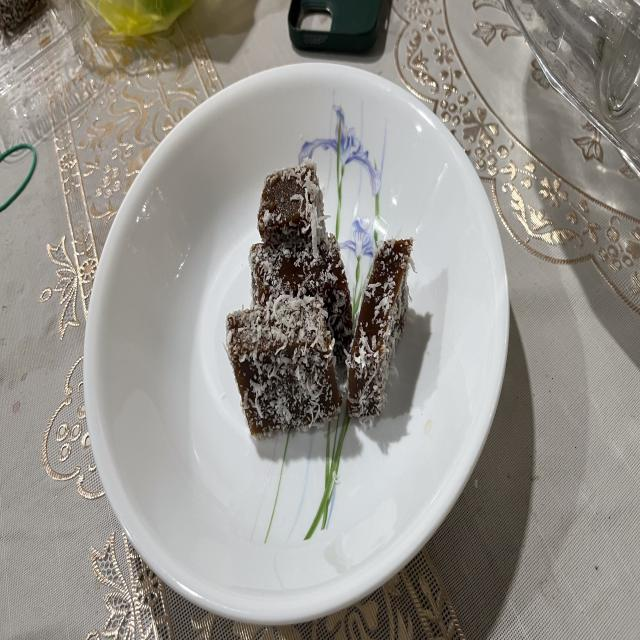kaswi: (226, 296, 341, 438), (250, 233, 352, 364), (346, 240, 412, 420), (258, 160, 326, 258)
